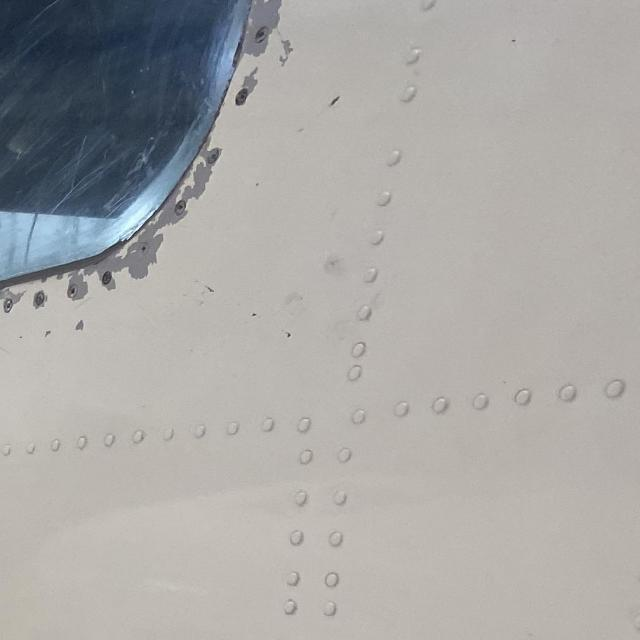Paint-off: (180, 145, 221, 203), (281, 35, 294, 62), (74, 318, 86, 328)
